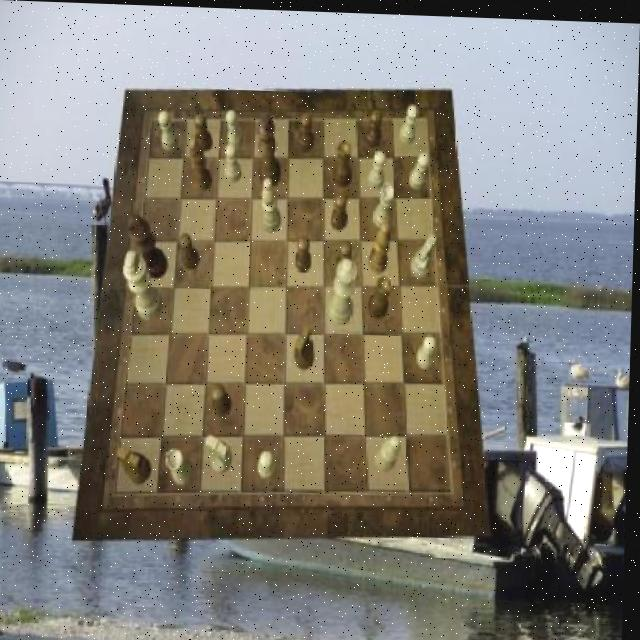bishop: (190, 135, 214, 190), (370, 219, 392, 272)
black-bishop: (126, 213, 170, 278)
black-king: (118, 446, 154, 484), (295, 321, 316, 367)
black-knight: (179, 231, 201, 268), (194, 112, 213, 151), (213, 383, 234, 418), (332, 192, 350, 230), (365, 106, 382, 145), (299, 111, 316, 150), (337, 238, 355, 274), (296, 233, 313, 270)
black-pawn: (256, 114, 282, 187)
black-queen: (368, 272, 392, 315), (334, 139, 354, 186)
black-rook: (261, 177, 282, 231), (375, 431, 402, 470)
white-bishop: (124, 250, 167, 321)
white-king: (413, 230, 438, 277), (208, 434, 235, 473)
white-knight: (158, 109, 179, 150), (399, 103, 419, 143), (408, 149, 429, 187), (225, 108, 244, 149), (368, 148, 386, 187), (225, 142, 243, 181), (417, 331, 437, 366), (261, 448, 279, 477)
white-pawn: (328, 256, 359, 323)
white-queen: (168, 447, 196, 485), (374, 181, 396, 227)
